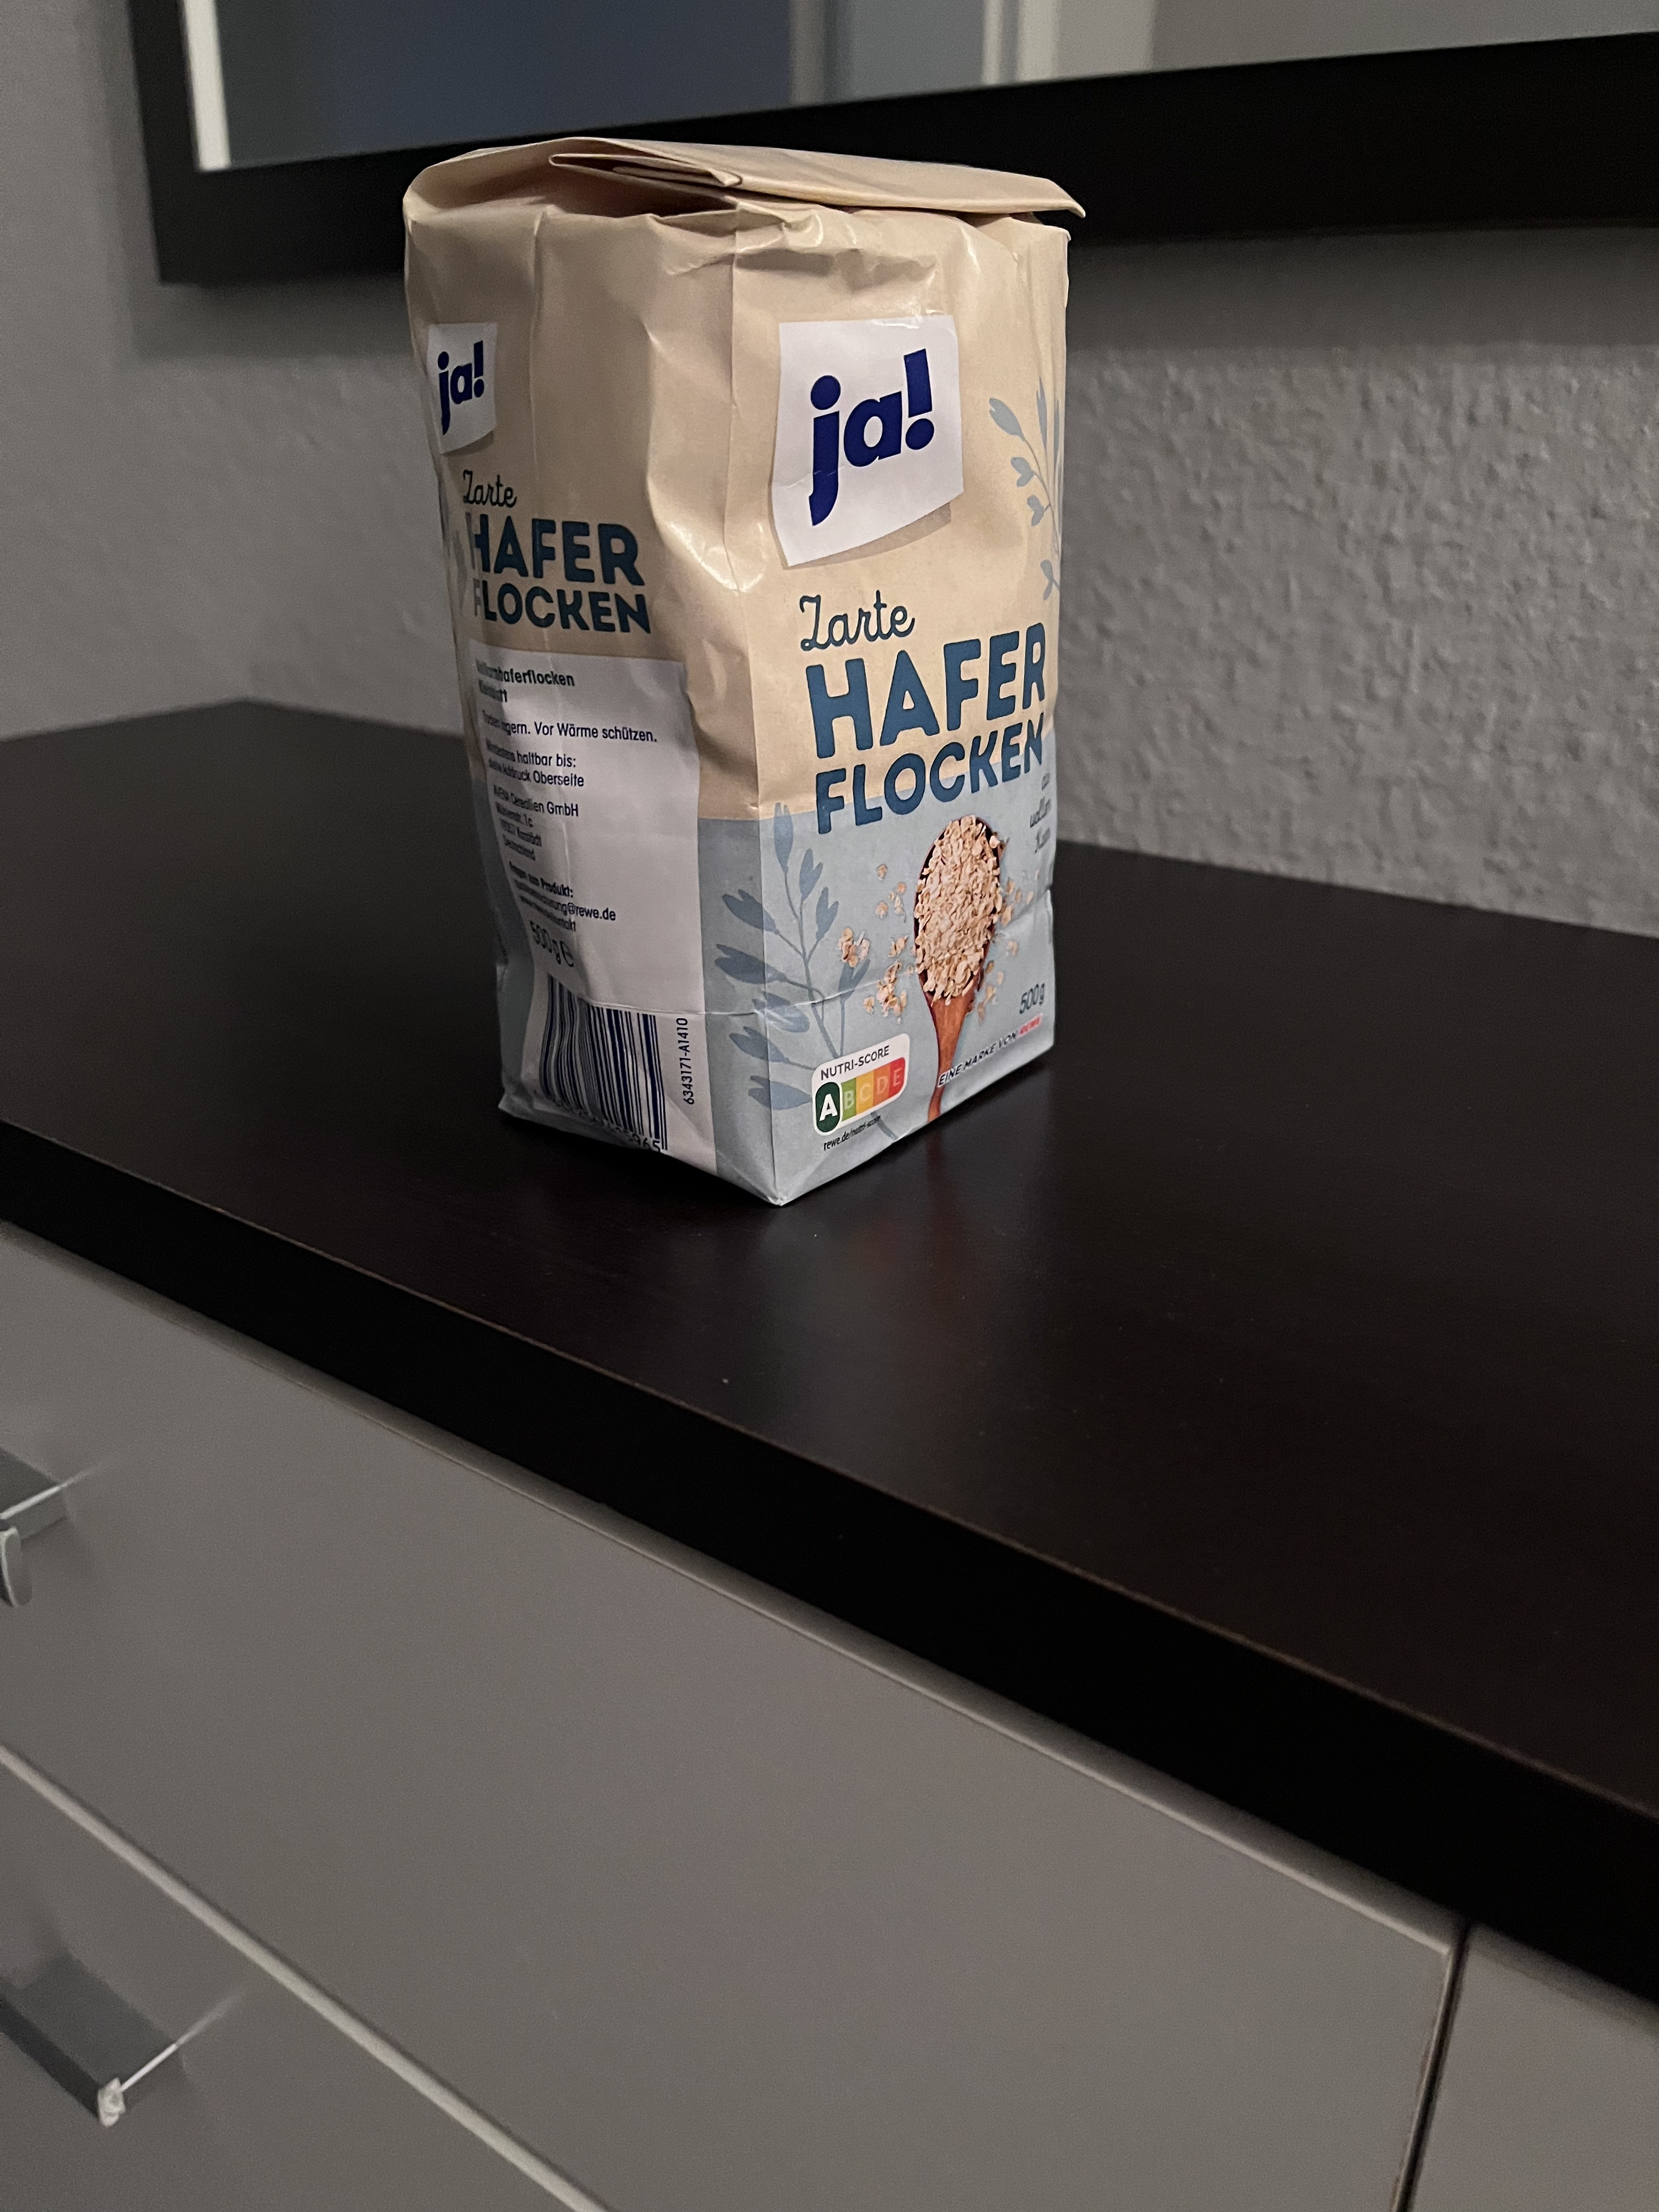haferflocken_ja: (394, 134, 1087, 1207)
